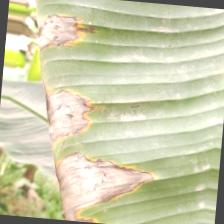cordana: (18, 0, 224, 224)
